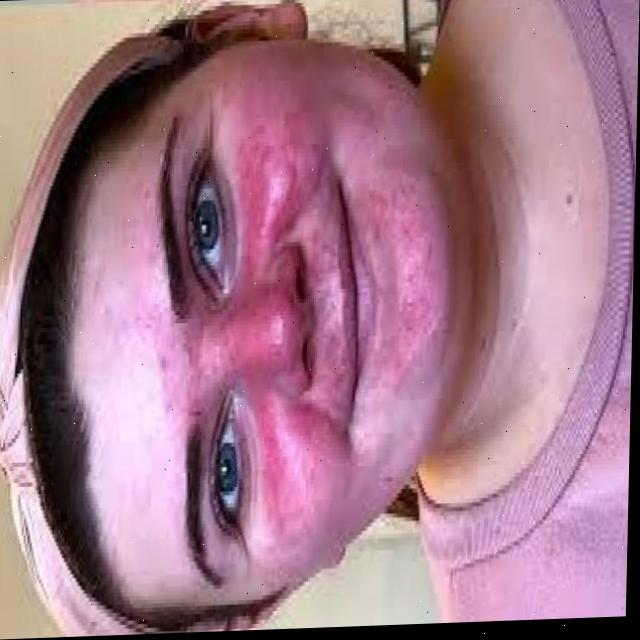Rosacea: (234, 106, 339, 514), (386, 163, 447, 337)
